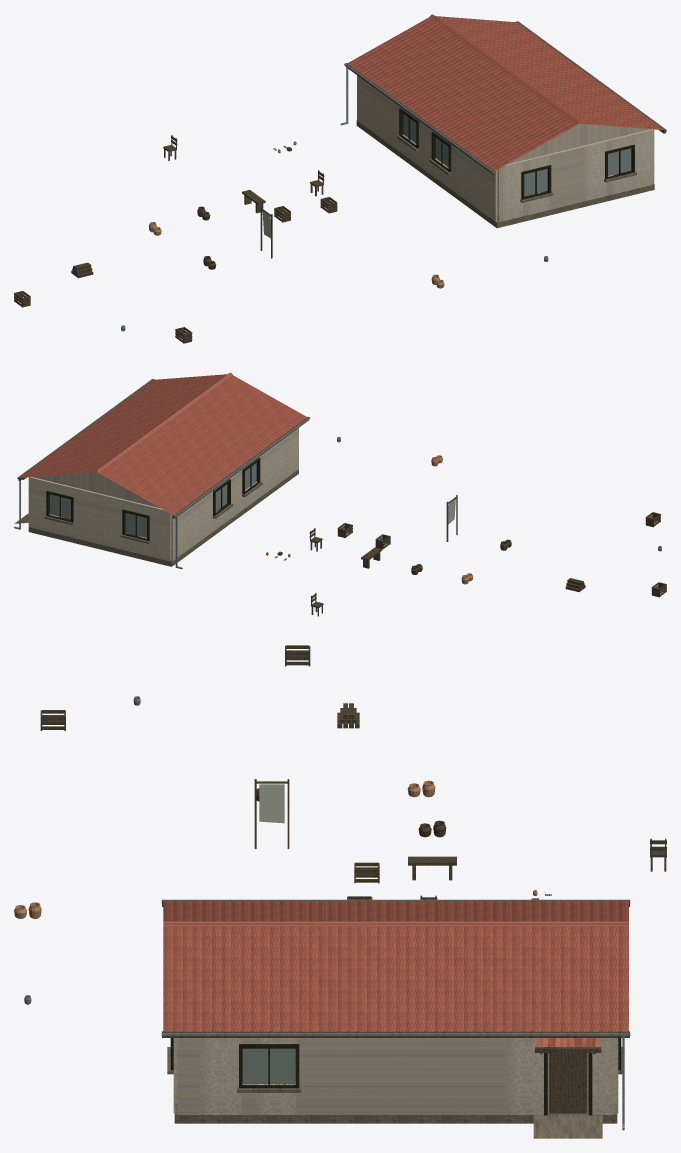
3 views of the same model, one above another, from view 1: azimuth 30°, elevation 25°; view 2: azimuth 150°, elevation 25°; view 3: azimuth 270°, elevation 25° (orthographic). The views are drawn at different scales.
Parts seen in each view (by area): view 1: H05_TELHAS, H05_LATERAIS, H05_FUNDOS, H05_FUNDACAO, H05_OITOES, H05_VIDROS_RECUADOS, H05_CAIXILHOS, H05_BEIRAIS, H05_CUMEEIRA, H05_CALHA; view 2: H05_TELHAS, H05_LATERAIS, H05_FUNDOS, H05_FUNDACAO, H05_OITOES, H05_VIDROS_RECUADOS, H05_CAIXILHOS, H05_BEIRAIS, H05_CUMEEIRA, H05_CALHA, H05_PEITORIS; view 3: H05_TELHAS, H05_FACHADA, H05_FUNDACAO, H05_CUMEEIRA, H05_BEIRAIS, H05_CALHA, H05_PORTA_FOLHA, H05_VIDROS_RECUADOS, H05_RAMPA, H05_CAIXILHOS, NEXT_SOFT_H05-R02-P07_TECIDO, H05_LATERAIS.
Boxes of the visible parts, x1,y1,x2,y2 form: H05_TELHAS: [348, 16, 663, 170]; H05_LATERAIS: [497, 129, 653, 222]; H05_FUNDOS: [357, 75, 497, 221]; H05_FUNDACAO: [356, 120, 654, 228]; H05_OITOES: [508, 124, 649, 163]; H05_VIDROS_RECUADOS: [403, 114, 631, 196]; H05_CAIXILHOS: [399, 108, 634, 199]; H05_BEIRAIS: [345, 21, 665, 174]; H05_CUMEEIRA: [429, 14, 580, 124]; H05_CALHA: [344, 21, 666, 173]; H05_TELHAS: [20, 374, 306, 514]; H05_LATERAIS: [29, 477, 171, 561]; H05_FUNDOS: [171, 428, 298, 560]; H05_FUNDACAO: [28, 469, 298, 566]; H05_OITOES: [33, 472, 160, 508]; H05_VIDROS_RECUADOS: [50, 463, 256, 537]; H05_CAIXILHOS: [46, 458, 260, 540]; H05_BEIRAIS: [18, 379, 308, 518]; H05_CUMEEIRA: [96, 372, 232, 472]; H05_CALHA: [17, 379, 310, 517]; H05_PEITORIS: [44, 482, 262, 543]; H05_TELHAS: [163, 901, 628, 1031]; H05_FACHADA: [177, 1038, 614, 1114]; H05_FUNDACAO: [174, 1049, 617, 1123]; H05_CUMEEIRA: [163, 921, 628, 926]; H05_BEIRAIS: [162, 900, 629, 1037]; H05_CALHA: [161, 899, 630, 1035]; H05_PORTA_FOLHA: [549, 1053, 586, 1113]; H05_VIDROS_RECUADOS: [243, 1048, 295, 1083]; H05_RAMPA: [533, 1116, 602, 1138]; H05_CAIXILHOS: [170, 1038, 621, 1088]; NEXT_SOFT_H05-R02-P07_TECIDO: [259, 784, 284, 823]; H05_LATERAIS: [173, 1038, 618, 1113].
Bounding box in the file's own units: 30.91 × 4.28 × 17.91.
11 materials, 8 textured.
